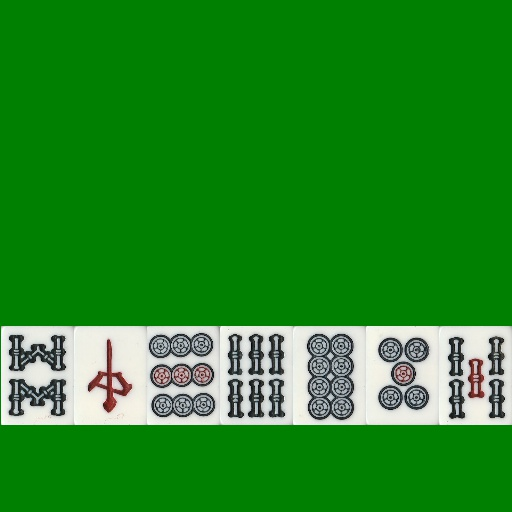5p: (366, 326, 439, 425)
5s: (439, 326, 512, 425)
6s: (220, 326, 293, 425)
8p: (293, 326, 366, 425)
8s: (1, 326, 74, 425)
9p: (147, 326, 220, 425)
tyun: (74, 326, 147, 425)
